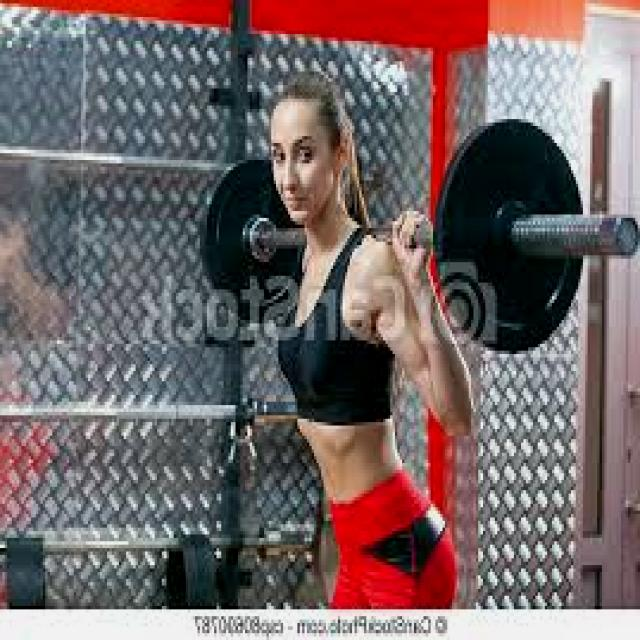barbell_plate_side: (202, 116, 312, 351), (530, 116, 640, 351)
